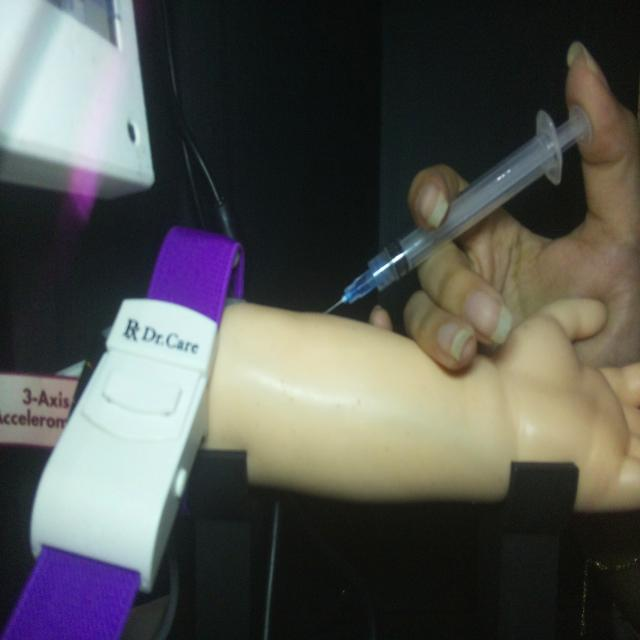27 degrees: (322, 100, 594, 316)
